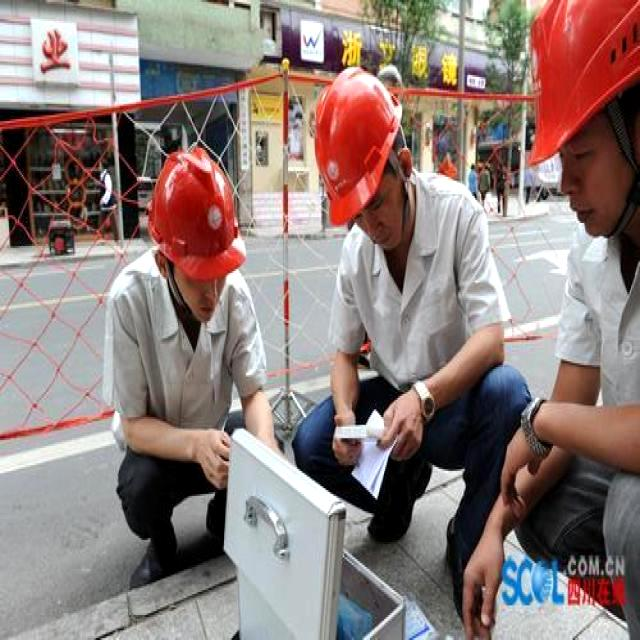hard_hat: (531, 0, 639, 163), (148, 144, 244, 288), (315, 67, 401, 225)
person: (456, 0, 639, 638), (296, 67, 517, 557), (113, 144, 278, 600)
